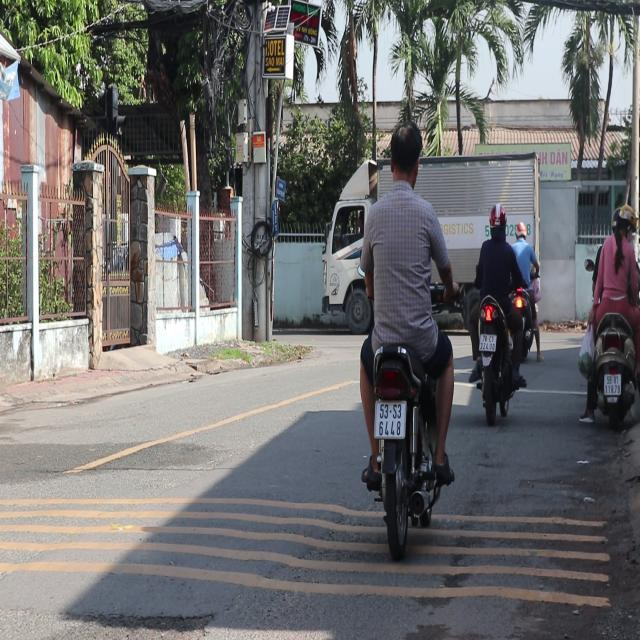helmet: (486, 202, 507, 238), (619, 204, 637, 237)
licenseplate: (350, 115, 459, 546), (577, 201, 639, 429), (466, 202, 526, 422)
motorcyclist: (388, 122, 423, 188)
nohelmet: (374, 400, 406, 437), (604, 374, 621, 394), (479, 333, 496, 350)
